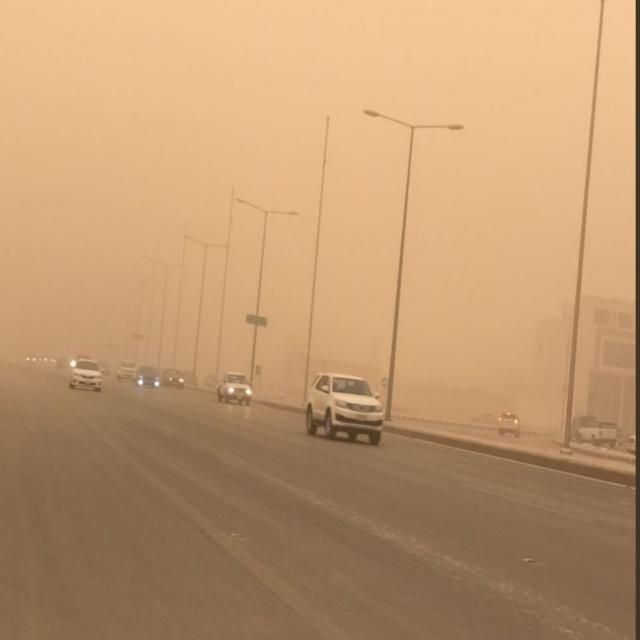car: (303, 371, 383, 443), (579, 414, 617, 449), (218, 372, 252, 405), (69, 358, 103, 391), (572, 411, 592, 444), (497, 411, 521, 435), (115, 357, 137, 382), (137, 362, 159, 385), (160, 367, 184, 387), (475, 407, 497, 425)
